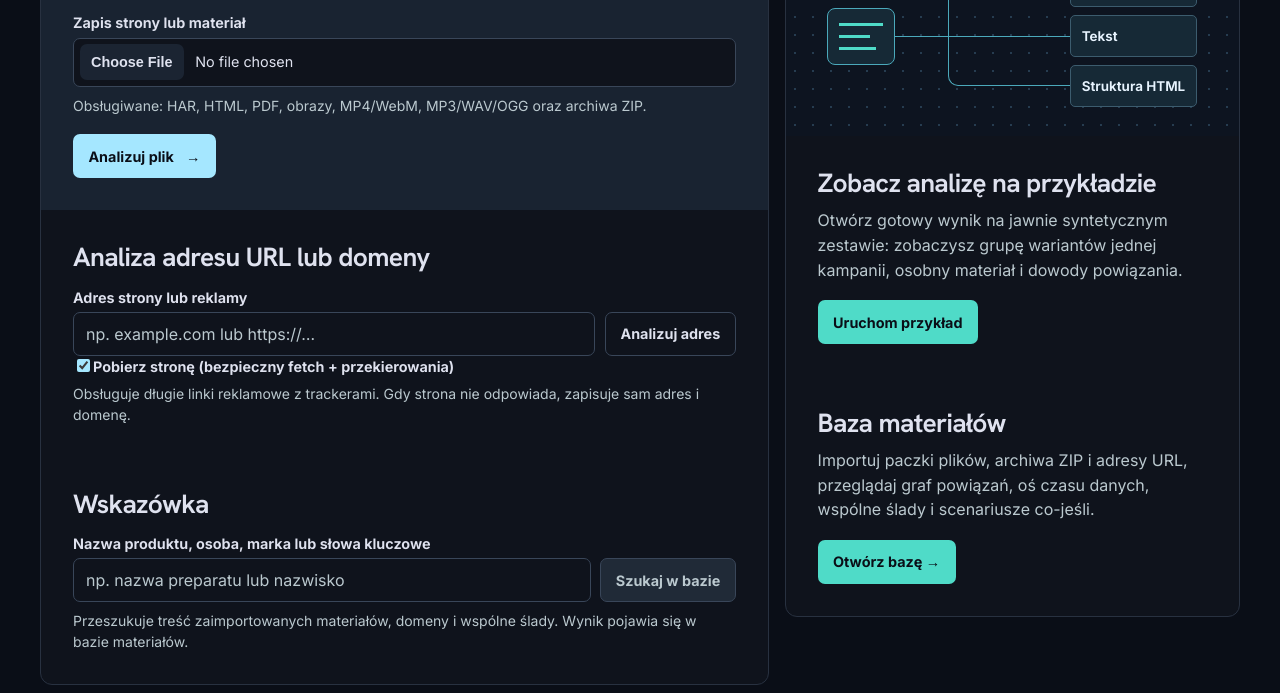
it: ekran startowy › URL: odrzuca niepoprawny protokół bez zapytania do API
(page scrolled)
Type "ftp://example.com" into the field labelled "Adres strony lub reklamy" at (334, 334), box [73,312,596,356]
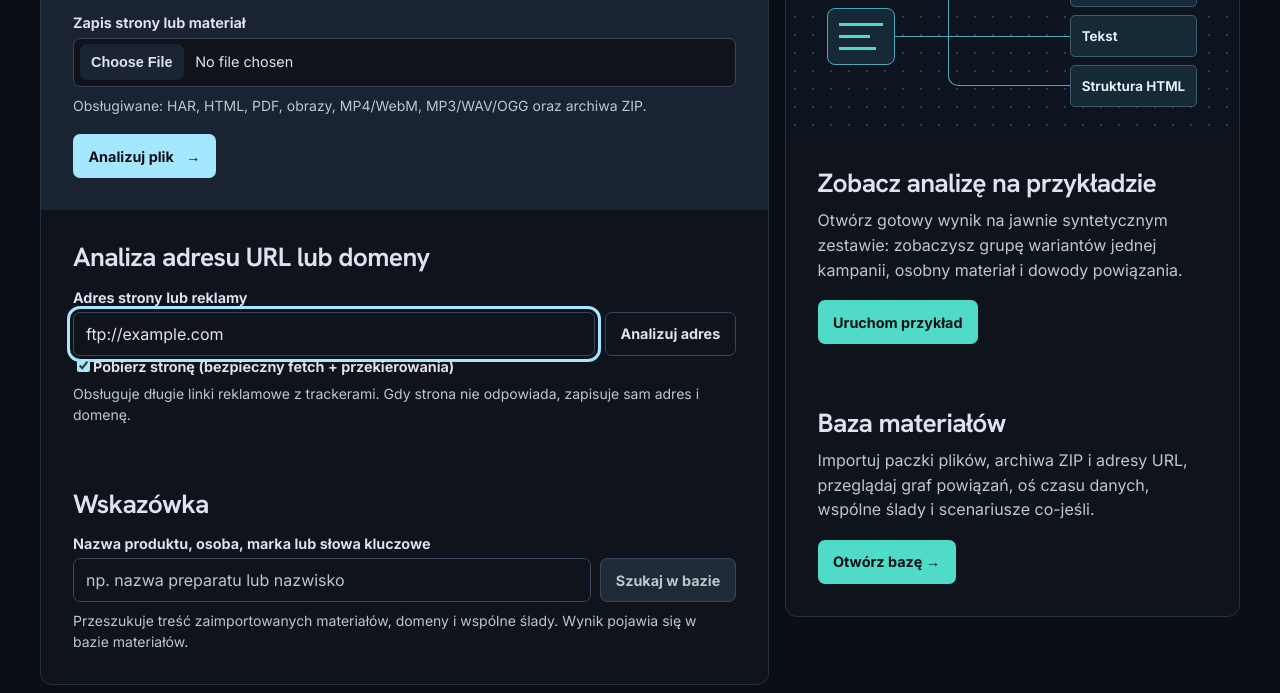
Click the button "Analizuj adres" at (670, 334), box [605,312,736,356]
(page scrolled)
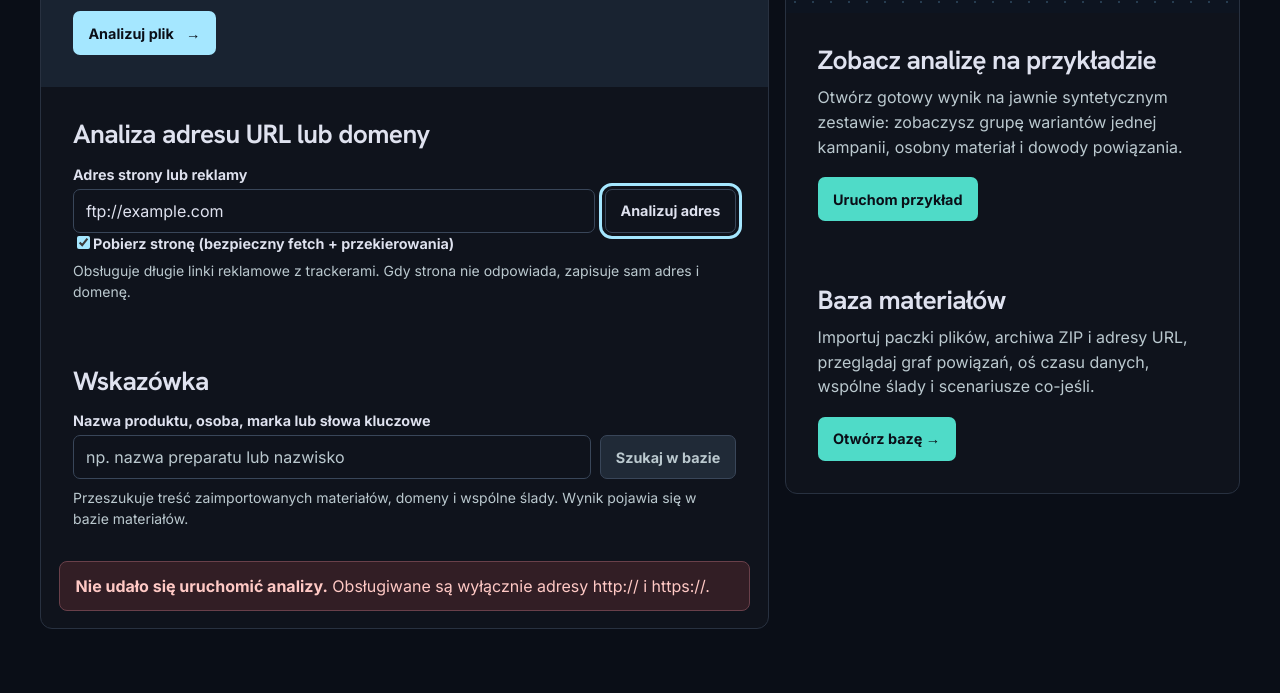
Now the message shows "http://", box [332,576,710,596]
